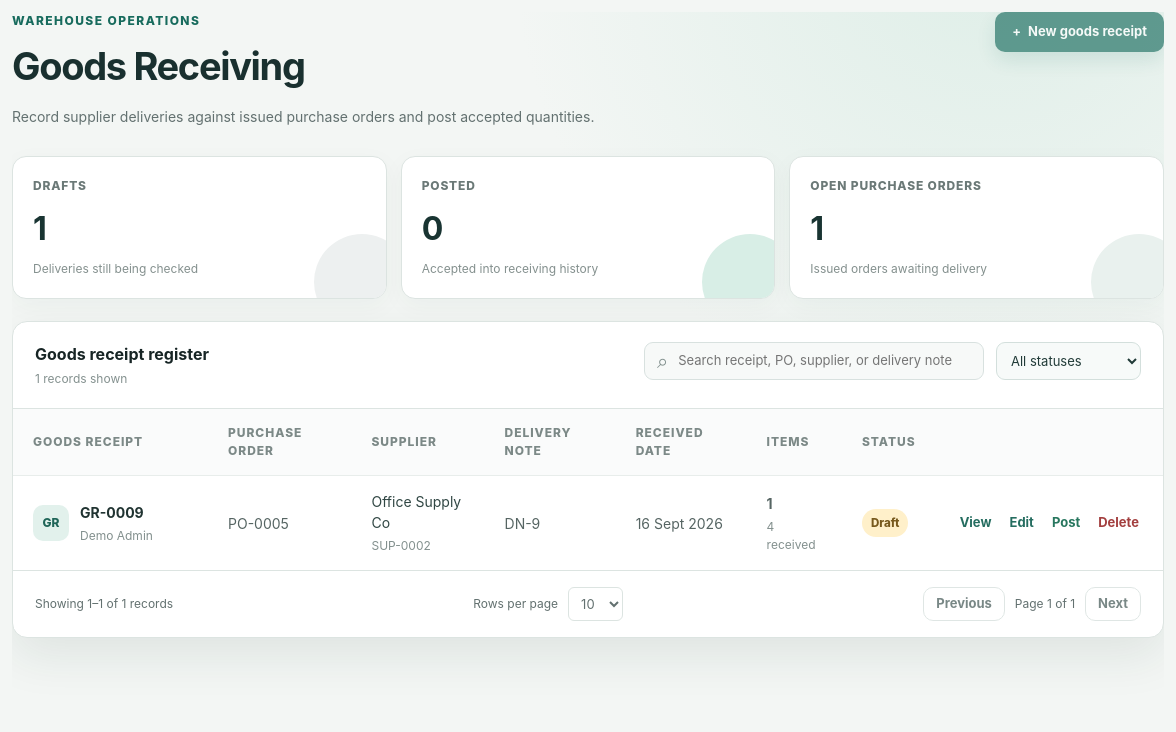
GoodsReceiptListView › posts a draft, shows a toast, and reloads the register
Click the button "Post": (1066, 523) [1048,509,1084,537]
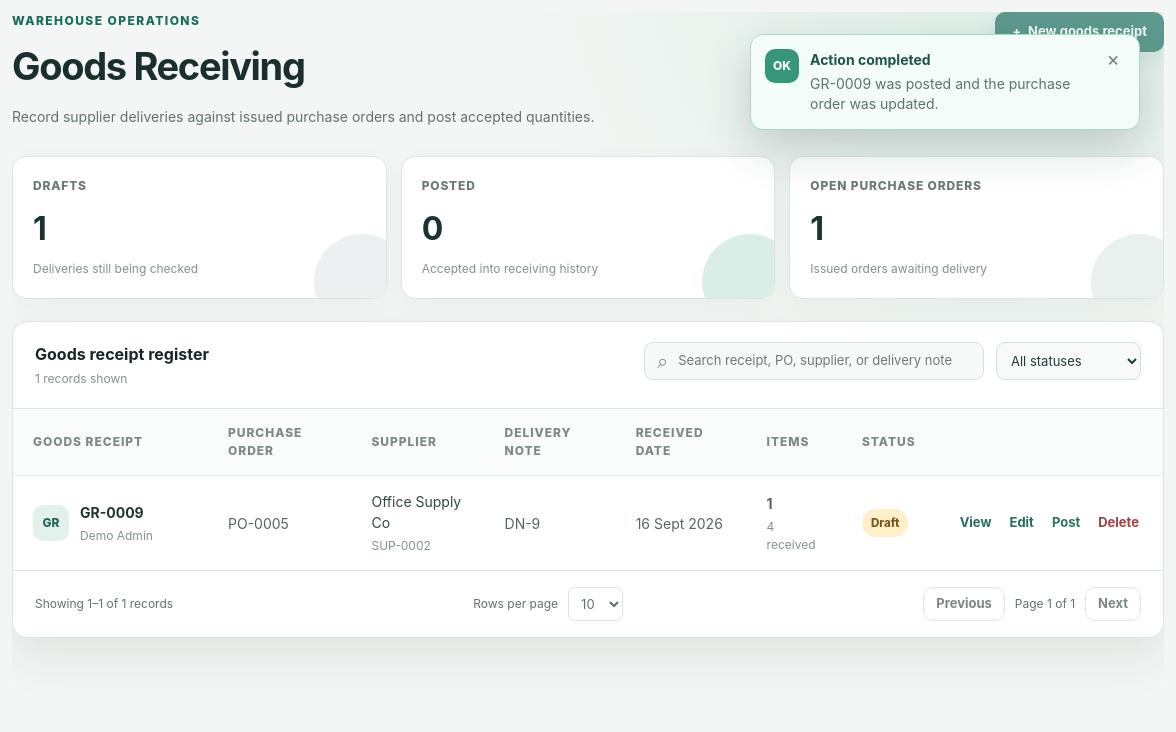
expect the message with class "success-toast" shows "GR-0009 was posted": met, box [810,75,1070,112]
